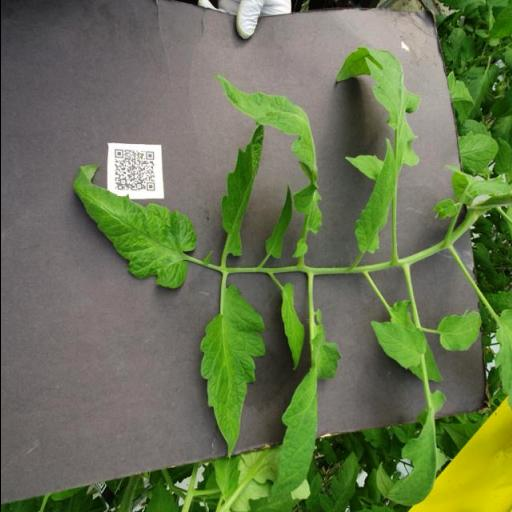Healthy: (72, 164, 196, 289), (265, 323, 341, 497), (198, 286, 264, 460), (352, 139, 398, 256), (369, 322, 429, 370), (278, 284, 306, 370), (434, 310, 482, 352)
